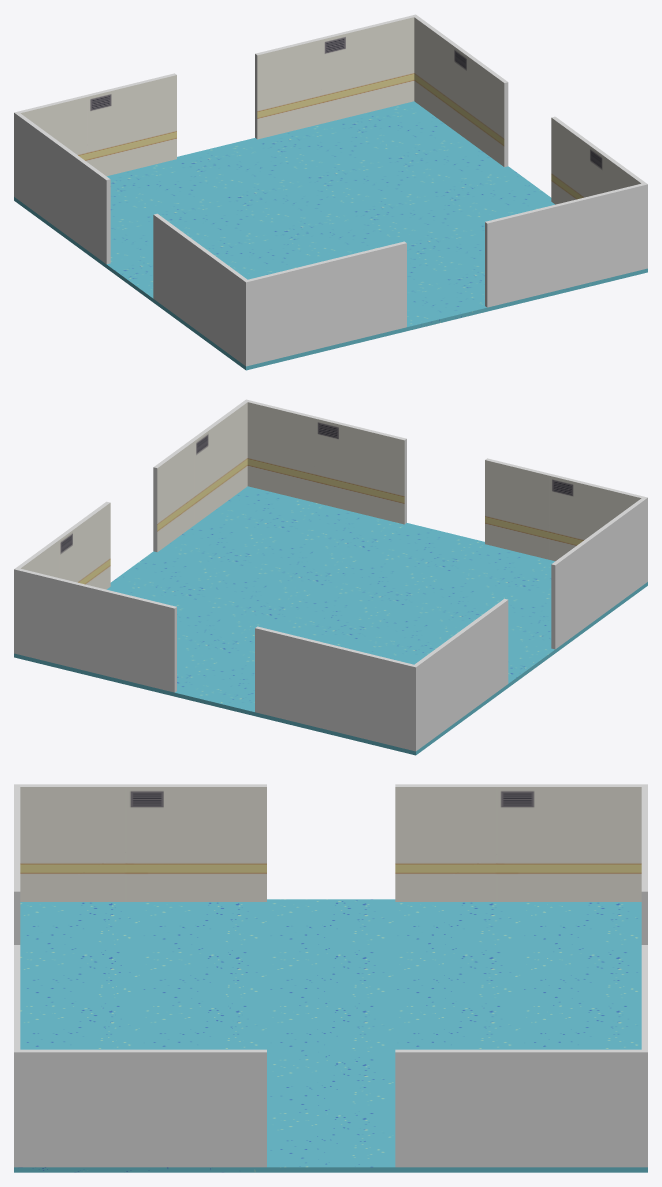
Rendered from Room_Lab.glb.
The picture shows the model from 3 angles, top to bottom: view 1: azimuth 30°, elevation 25°; view 2: azimuth 150°, elevation 25°; view 3: azimuth 270°, elevation 25°; orthographic projection. The views are drawn at different scales.
Visible parts, largest first — view 1: Room; view 2: Room; view 3: Room.
Boxes of the visible parts, x1,y1,x2,y2 form: Room: [14, 14, 647, 370]; Room: [14, 399, 647, 755]; Room: [14, 784, 647, 1172].
Bounding box in the file's own units: 10 × 2.09 × 10.
Materials: 3 (2 with a texture image).
